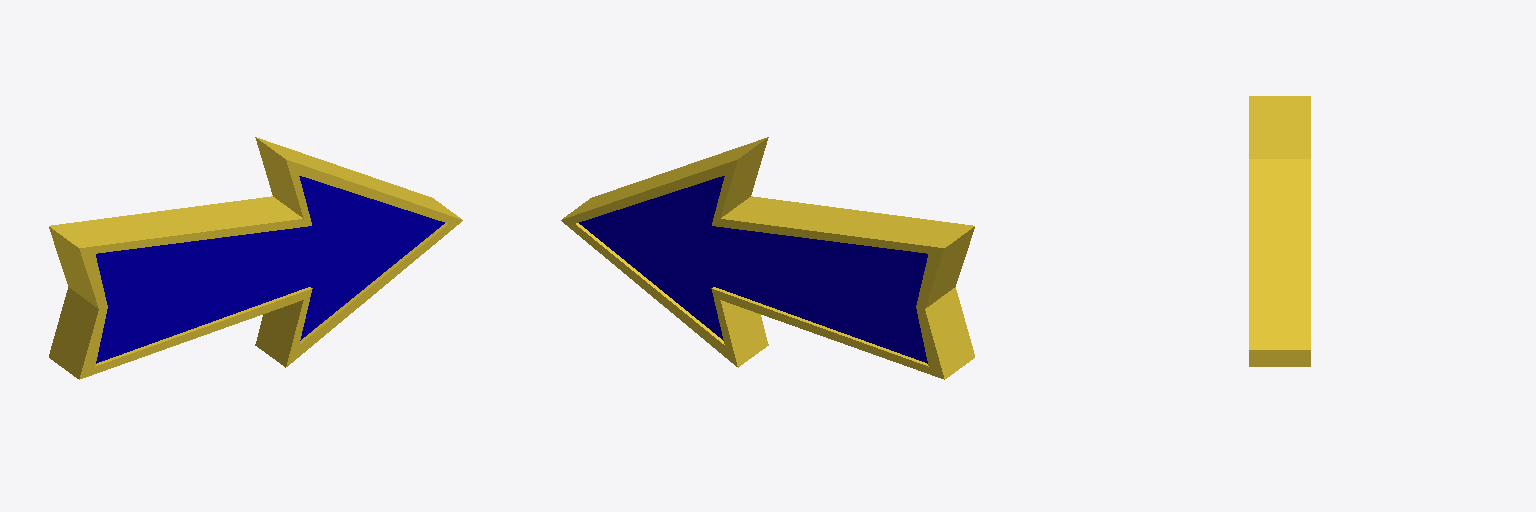
The picture shows the model from 3 angles: view 1: azimuth 30°, elevation 25°; view 2: azimuth 150°, elevation 25°; view 3: azimuth 270°, elevation 25°; orthographic projection.
Visible parts, largest first — view 1: Arrow_B_MDL; view 2: Arrow_B_MDL; view 3: Arrow_B_MDL.
Boxes of the visible parts, x1=… form: Arrow_B_MDL: x1=49, y1=137, x2=462, y2=379; Arrow_B_MDL: x1=561, y1=137, x2=974, y2=379; Arrow_B_MDL: x1=1249, y1=96, x2=1310, y2=366.
Bounding box in the file's own units: 12.87 × 6.67 × 1.78.
1 materials, 1 textured.